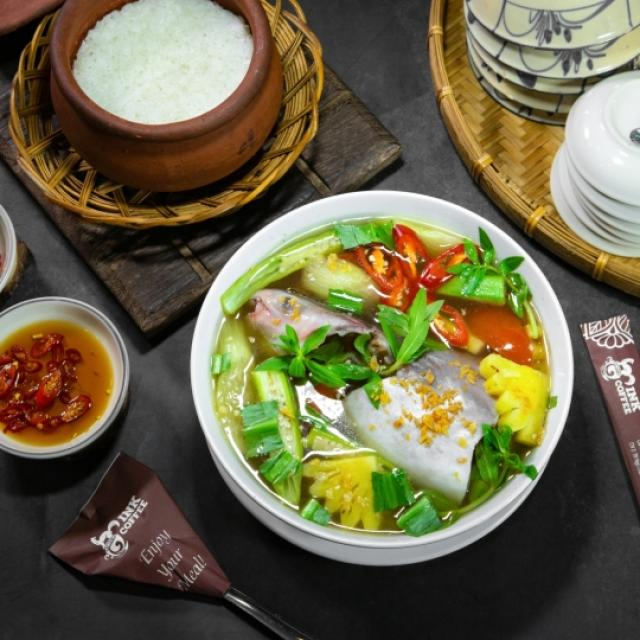canh chua: (211, 218, 556, 536)
com: (73, 0, 251, 123)
nuoc mam: (0, 297, 128, 457)
